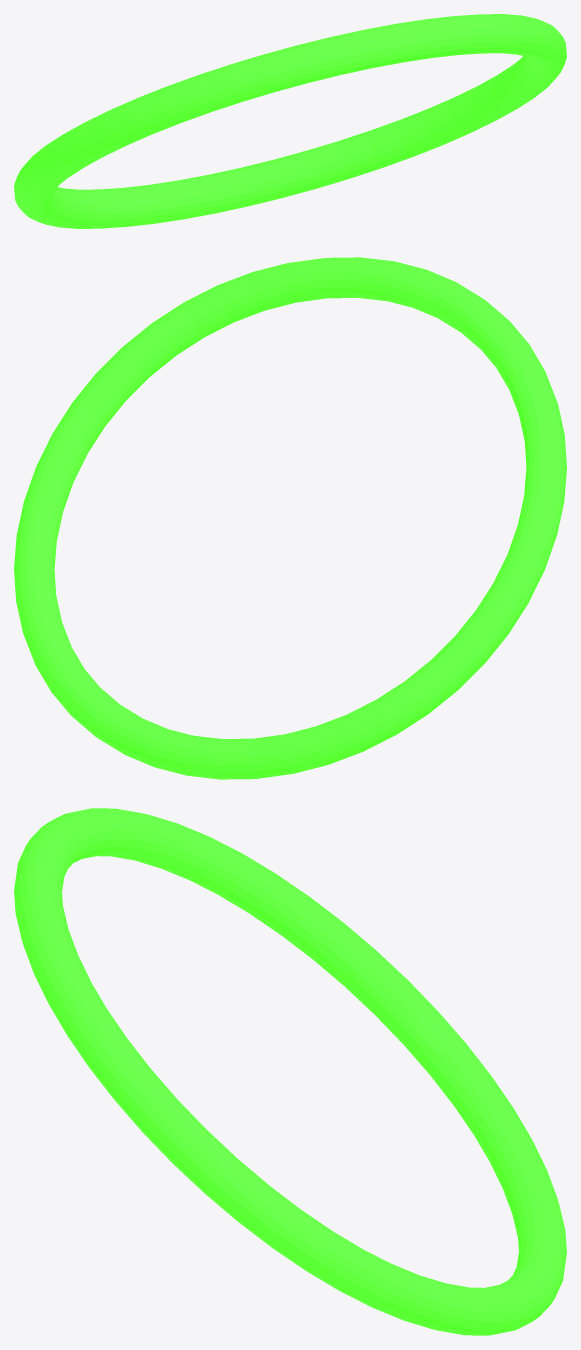
Rendered from halo.glb.
3 views of the same model, one above another, from view 1: azimuth 30°, elevation 25°; view 2: azimuth 150°, elevation 25°; view 3: azimuth 270°, elevation 25° (orthographic). The views are drawn at different scales.
Parts seen in each view (by area): view 1: Halo.001; view 2: Halo.001; view 3: Halo.001.
Part boxes in pixels (<box>): Halo.001: <box>14,14,566,228</box>; Halo.001: <box>14,257,566,779</box>; Halo.001: <box>14,808,566,1335</box>.
Size of the model in its own units: 0.145 by 0.0957 by 0.1148.
